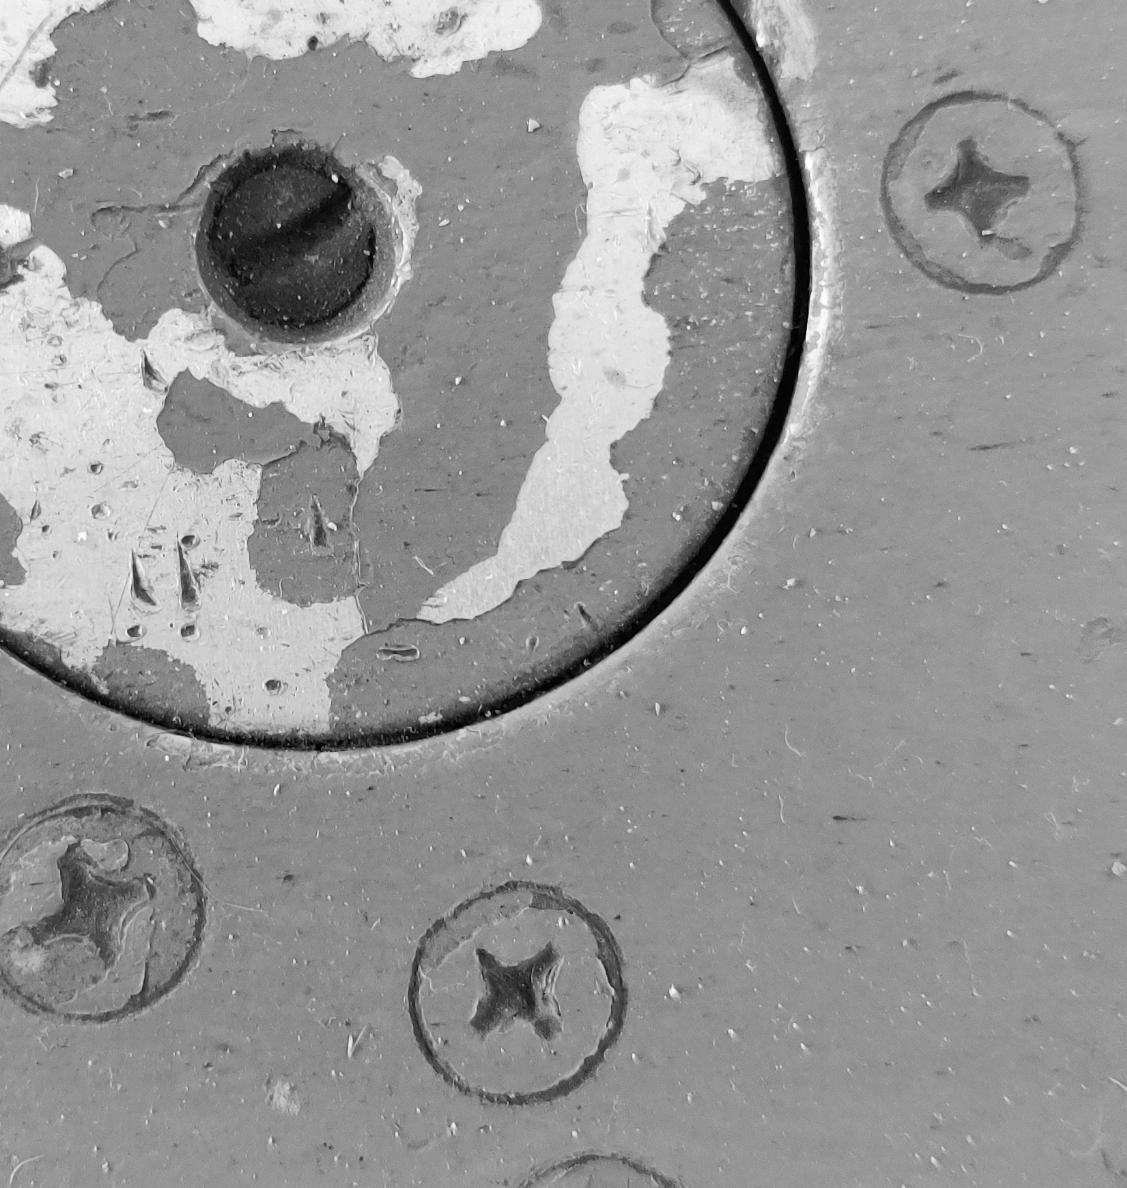paint-off: (1, 0, 1127, 1188)
